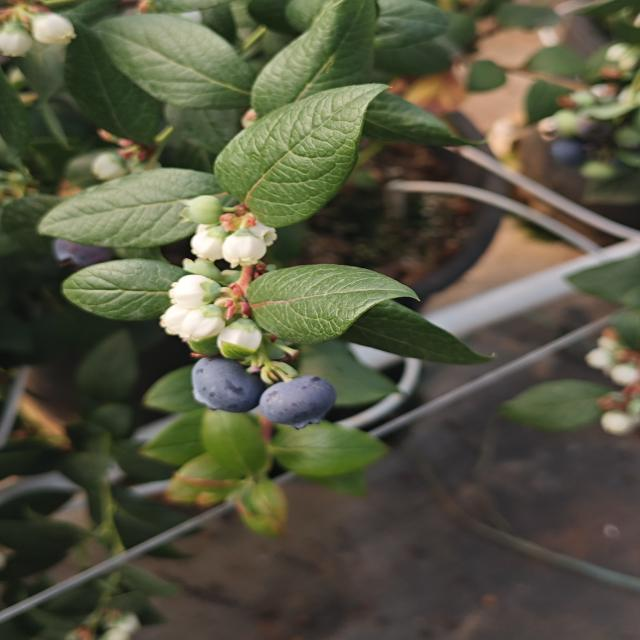ripe: (257, 373, 339, 431), (188, 355, 264, 415), (44, 228, 119, 274), (542, 131, 598, 167)
